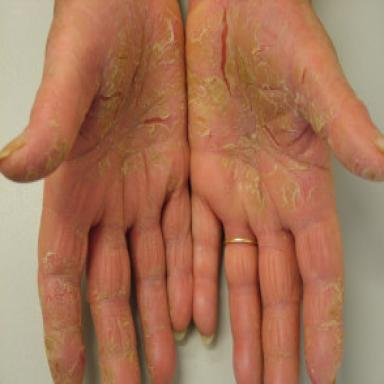eczema: (187, 2, 335, 208), (75, 2, 187, 191), (38, 226, 87, 382), (88, 276, 139, 381), (0, 119, 71, 182), (321, 277, 344, 381), (328, 137, 382, 180), (141, 310, 166, 382), (103, 217, 125, 254)
